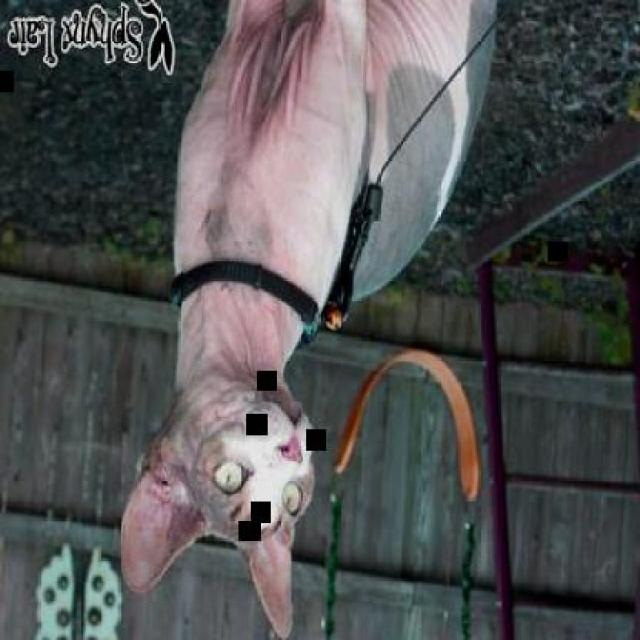cat: (115, 2, 500, 640)
